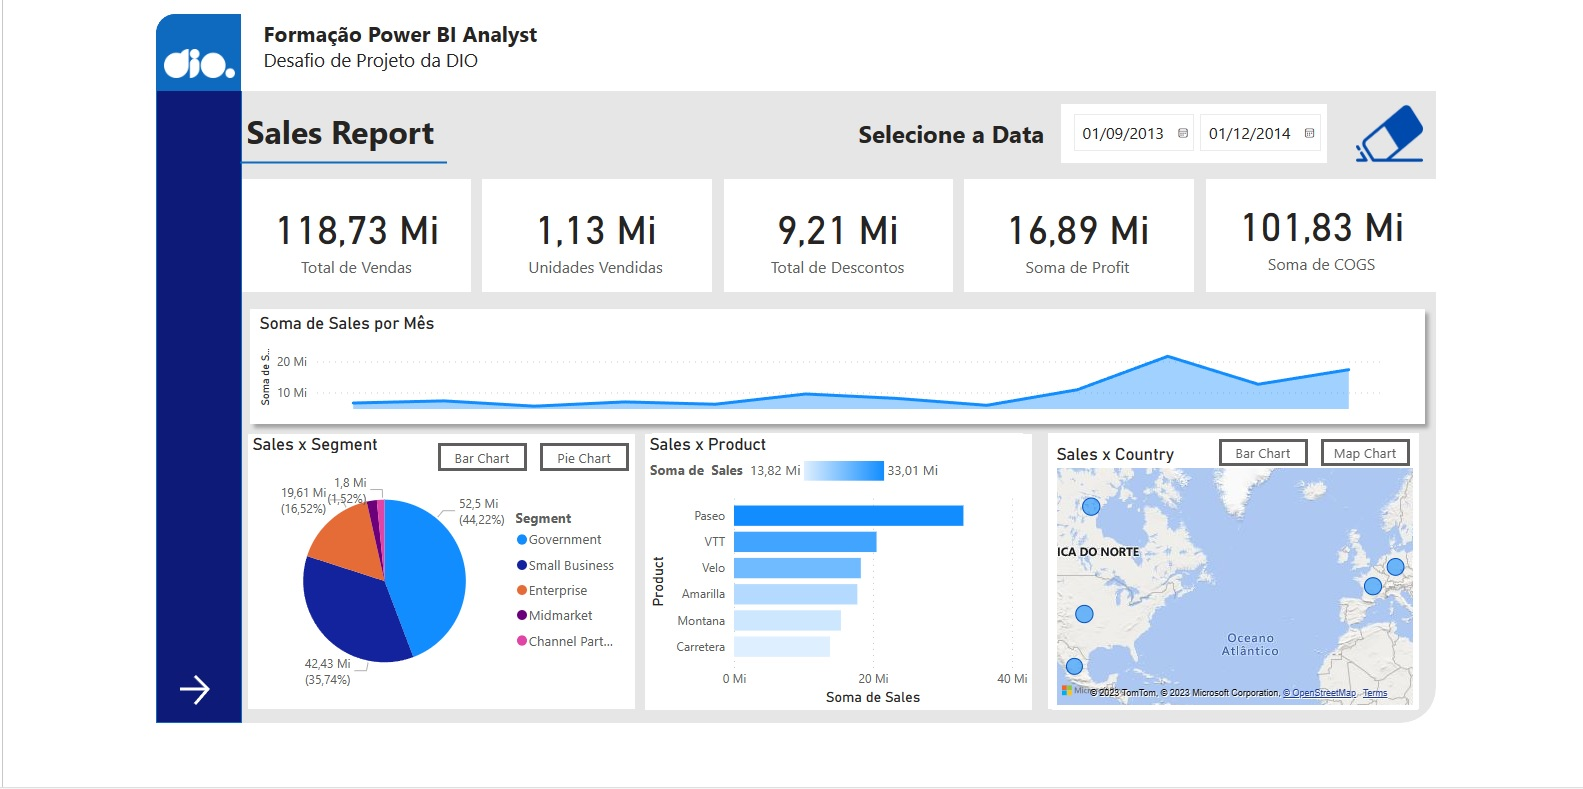

Layout of this report page (visuals, bound fields, positions):
{"tool":"powerbi","page":{"name":"Página 1","canvas":[1280,720],"ordinal":0},"visuals":[{"type":"shape","box":[0,11.7,1280,708.5],"z":0},{"type":"slicer","fields":{"Values":["financials.Date"]},"box":[905.3,101,266,58.5],"z":0,"group":"g2"},{"type":"shape","box":[86.4,175.9,229.3,113.1],"z":0,"group":"g1"},{"type":"pieChart","title":"Sales x Segment","fields":{"Y":["Sum(financials. Sales)"],"Category":["financials.Segment"]},"box":[92.2,430.9,386.6,274.9],"z":500,"group":"g4"},{"type":"shape","box":[0,11.7,86.4,708],"z":1000},{"type":"textbox","box":[697.8,109,200.4,41.7],"z":1000,"group":"g2"},{"type":"shape","box":[326.7,175.9,229.3,113.1],"z":1000,"group":"g1"},{"type":"map","title":"Sales x Country","fields":{"Category":["financials.Country"],"Size":["Sum(financials. Sales)"]},"box":[896.3,440.8,366.2,266.2],"z":1000,"group":"g3"},{"type":"clusteredBarChart","title":"Sales x Country","fields":{"Category":["financials.Country"],"Y":["Sum(financials. Sales)"]},"box":[891.3,429.9,369.1,275.8],"z":1500,"group":"g3"},{"type":"shape","box":[0,11,86.4,77],"z":2000},{"type":"actionButton","box":[1194.5,99,76.3,67.4],"z":2000,"group":"g2"},{"type":"shape","box":[568.6,175.9,229.3,113.1],"z":2000,"group":"g1"},{"type":"actionButton","box":[1063.3,435.5,88.9,27.8],"z":2000,"group":"g3"},{"type":"actionButton","box":[282.2,440,88.9,27.8],"z":2000,"group":"g4"},{"type":"image","title":"clean_botom","box":[1190,91.8,88,76.5],"z":2500,"group":"g2"},{"type":"actionButton","box":[1165.6,435.5,88.9,27.8],"z":2500,"group":"g3"},{"type":"image","title":"logo_dio","box":[2.9,20.4,81.6,79.6],"z":3000},{"type":"shape","box":[808.9,175.9,229.3,113.1],"z":3000,"group":"g1"},{"type":"actionButton","box":[384.4,440,88.9,27.8],"z":3000,"group":"g4"},{"type":"shape","box":[84.8,11,1195.2,77],"z":4000},{"type":"shape","box":[1050.7,175.9,229.3,113.1],"z":4000,"group":"g1"},{"type":"textbox","box":[103.3,11.5,304.2,76.5],"z":5000},{"type":"card","fields":{"Values":["Sum(financials.COGS)"]},"box":[1052.5,175.6,227,109.1],"z":5000,"group":"g1"},{"type":"group","id":"g1","title":"Cartões","box":[86.4,175.6,1193.6,113.4],"z":6000},{"type":"card","fields":{"Values":["Sum(financials.Discounts)"]},"box":[568.4,178.3,227,109.1],"z":6000,"group":"g1"},{"type":"shape","box":[84.2,101.4,206.6,116.7],"z":7000},{"type":"card","fields":{"Values":["Sum(financials.Profit)"]},"box":[808.7,178.3,227,109.1],"z":7000,"group":"g1"},{"type":"textbox","box":[86.1,101.4,493.6,57.4],"z":8000},{"type":"card","fields":{"Values":["Sum(financials.Units Sold)"]},"box":[326.3,178.3,227,109.1],"z":8000,"group":"g1"},{"type":"card","fields":{"Values":["Sum(financials. Sales)"]},"box":[87.8,178.7,227,109.1],"z":9000,"group":"g1"},{"type":"shape","box":[84.8,296.8,1193.6,133.5],"z":9000},{"type":"shape","box":[97.5,430.9,375.1,274.9],"z":10000},{"type":"shape","box":[495.5,430.5,371.2,275.5],"z":11000},{"type":"shape","box":[891.6,430.5,371.2,275.5],"z":12000},{"type":"areaChart","fields":{"Category":["financials.Date.Variation.Hierarquia de datas.Mês"],"Y":["Sum(financials. Sales)"]},"box":[99.5,310,1134.6,101.4],"z":13000},{"type":"clusteredBarChart","title":"Sales x Product","fields":{"Y":["Sum(financials. Sales)"],"Category":["financials.Product"]},"box":[489.5,430.9,386.6,275.8],"z":14000},{"type":"group","id":"g2","title":"Filtro por Data","box":[697.8,91.8,580.3,76.5],"z":15000},{"type":"group","id":"g3","title":"Sales x Pais","box":[891.3,429.9,371.2,277.1],"z":16000},{"type":"group","id":"g4","title":"Sales x Segement","box":[92.2,430.9,386.6,275.8],"z":17000},{"type":"actionButton","box":[17.8,666.7,50,40],"z":18000}]}

Visuals, with their boxes on the page's 1280x720 design canvas (x1, y1, x2, y2). These are canvas units, not pixel positions in the 1583x789 screenshot, which may show the page scaled, cropped or inside an application window:
shape: detection(0, 12, 1280, 720)
slicer - financials.Date: detection(905, 101, 1171, 160)
shape: detection(86, 176, 316, 289)
"Sales x Segment" pieChart: detection(92, 431, 479, 706)
shape: detection(0, 12, 86, 720)
textbox: detection(698, 109, 898, 151)
shape: detection(327, 176, 556, 289)
"Sales x Country" map: detection(896, 441, 1262, 707)
"Sales x Country" clusteredBarChart: detection(891, 430, 1260, 706)
shape: detection(0, 11, 86, 88)
actionButton: detection(1194, 99, 1271, 166)
shape: detection(569, 176, 798, 289)
actionButton: detection(1063, 436, 1152, 463)
actionButton: detection(282, 440, 371, 468)
"clean_botom" image: detection(1190, 92, 1278, 168)
actionButton: detection(1166, 436, 1254, 463)
"logo_dio" image: detection(3, 20, 84, 100)
shape: detection(809, 176, 1038, 289)
actionButton: detection(384, 440, 473, 468)
shape: detection(85, 11, 1280, 88)
shape: detection(1051, 176, 1280, 289)
textbox: detection(103, 12, 408, 88)
card - Sum(financials.COGS): detection(1052, 176, 1280, 285)
"Cartões" group: detection(86, 176, 1280, 289)
card - Sum(financials.Discounts): detection(568, 178, 795, 287)
shape: detection(84, 101, 291, 218)
card - Sum(financials.Profit): detection(809, 178, 1036, 287)
textbox: detection(86, 101, 580, 159)
card - Sum(financials.Units Sold): detection(326, 178, 553, 287)
card - Sum(financials. Sales): detection(88, 179, 315, 288)
shape: detection(85, 297, 1278, 430)
shape: detection(98, 431, 473, 706)
shape: detection(496, 430, 867, 706)
shape: detection(892, 430, 1263, 706)
areaChart - financials.Date.Variation.Hierarquia de datas.Mês x Sum(financials. Sales): detection(100, 310, 1234, 411)
"Sales x Product" clusteredBarChart: detection(490, 431, 876, 707)
"Filtro por Data" group: detection(698, 92, 1278, 168)
"Sales x Pais" group: detection(891, 430, 1262, 707)
"Sales x Segement" group: detection(92, 431, 479, 707)
actionButton: detection(18, 667, 68, 707)
